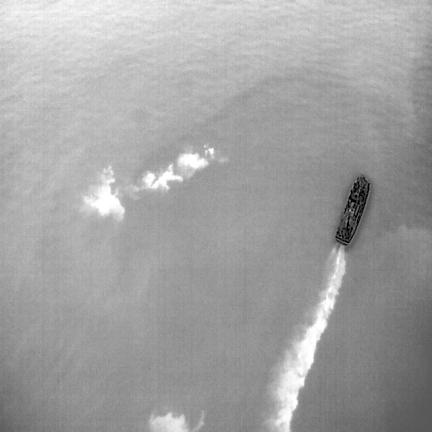flukeprints: (84, 166, 124, 219), (149, 164, 182, 189), (177, 153, 209, 177), (143, 172, 155, 187), (206, 148, 213, 155)
